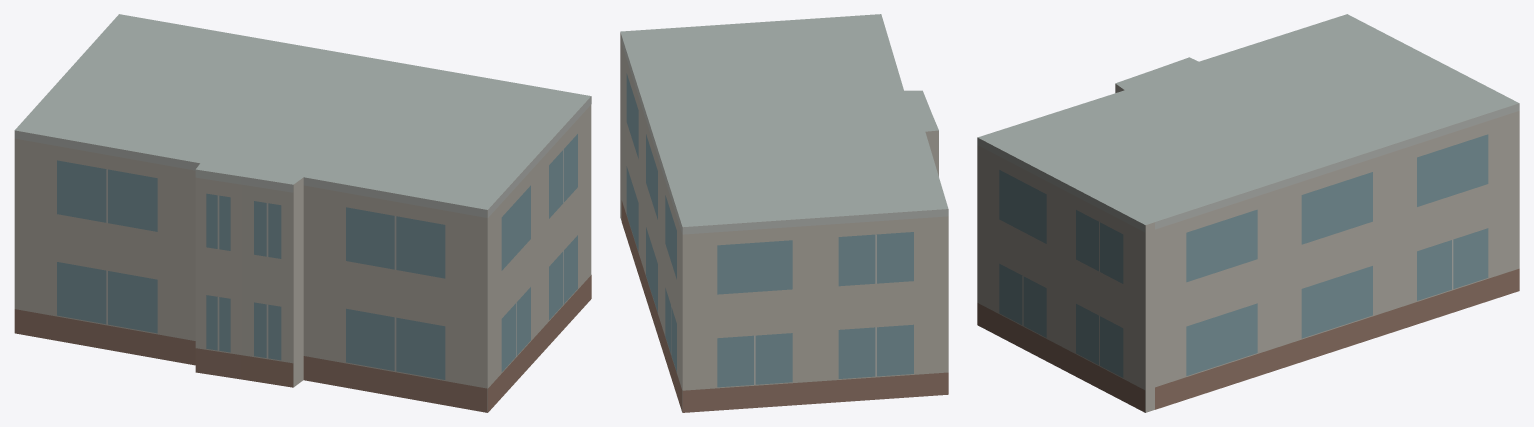
The model's file is survey-upis-32924533.glb.
3 renders of one model, left to right at view 1: azimuth 30°, elevation 25°; view 2: azimuth 150°, elevation 25°; view 3: azimuth 270°, elevation 25°, orthographic. The views are drawn at different scales.
Parts seen in each view (by area): view 1: survey-upis-32924533.tmp; view 2: survey-upis-32924533.tmp; view 3: survey-upis-32924533.tmp.
Boxes of the visible parts, <box> form: survey-upis-32924533.tmp: <box>14,14,591,412</box>; survey-upis-32924533.tmp: <box>620,14,948,412</box>; survey-upis-32924533.tmp: <box>977,14,1519,412</box>.
Size of the model in its own units: 14.73 by 6.1 by 15.97.
